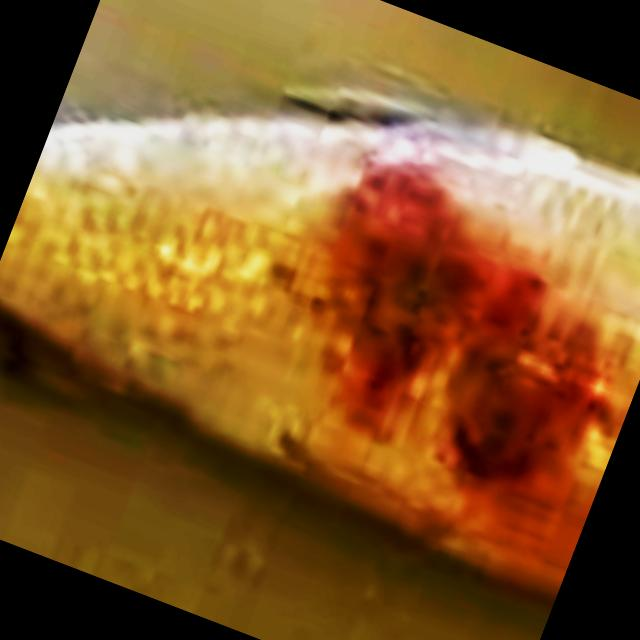Edwardsiella Ictaluri -Bacterial Red Disease-: (0, 72, 640, 596)
